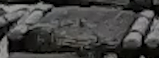bag: (6, 4, 155, 53)
